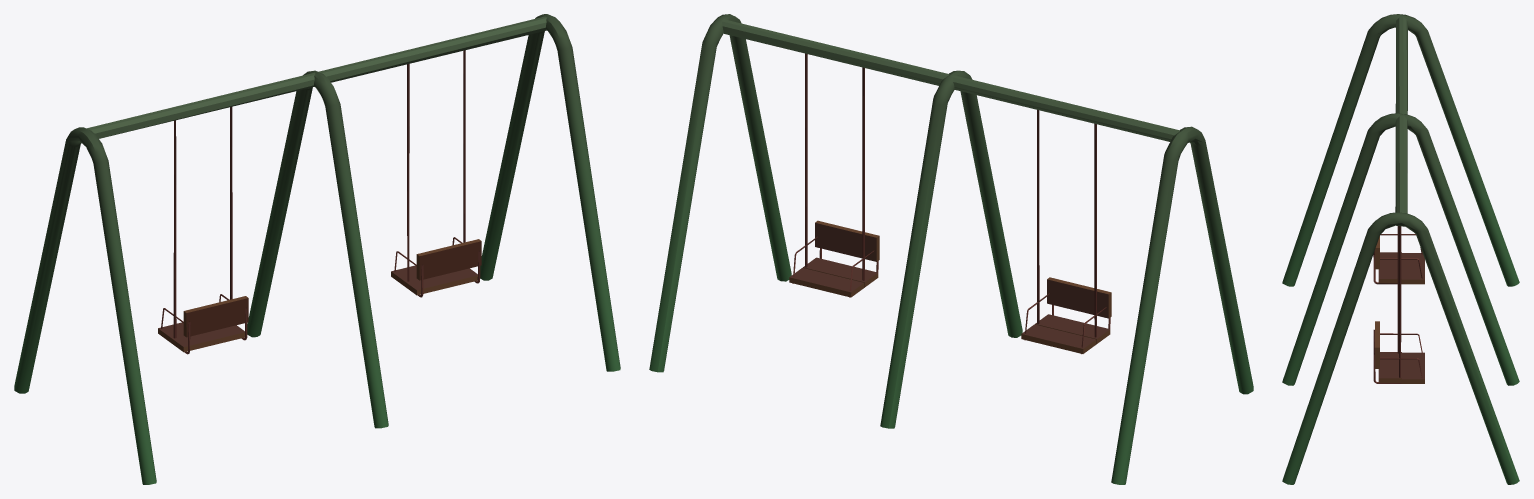
Rendered from Kacheli.fbx.
3 views of the same model, side by side, from view 1: azimuth 30°, elevation 25°; view 2: azimuth 150°, elevation 25°; view 3: azimuth 270°, elevation 25° (orthographic). The views are drawn at different scales.
Visible parts, largest first — view 1: Kacheli_; view 2: Kacheli_; view 3: Kacheli_.
Part boxes in pixels (x1,y1,x2,y2): Kacheli_: [14, 14, 620, 484]; Kacheli_: [649, 14, 1253, 484]; Kacheli_: [1282, 14, 1519, 484].
Size of the model in its own units: 9.83 by 4.84 by 6.08.
